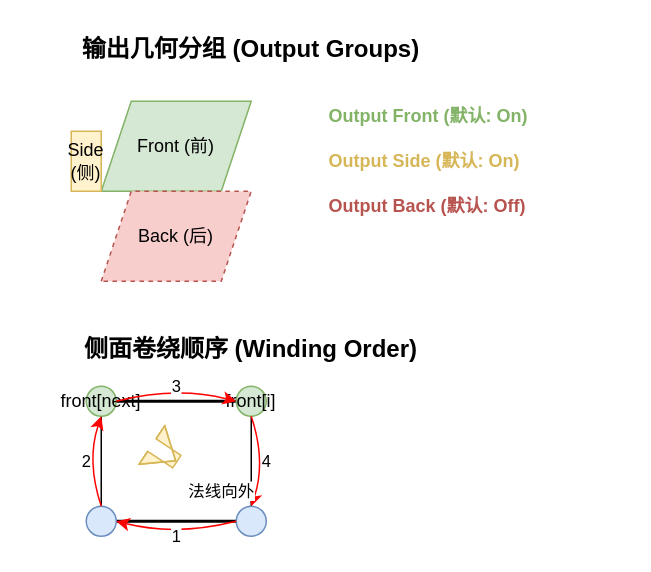
This 651x572 diagram has some shape labels left out. Each missing label, with the box of its shape:
base[i]: (235, 505, 266, 536)
base[next]: (85, 505, 116, 536)
